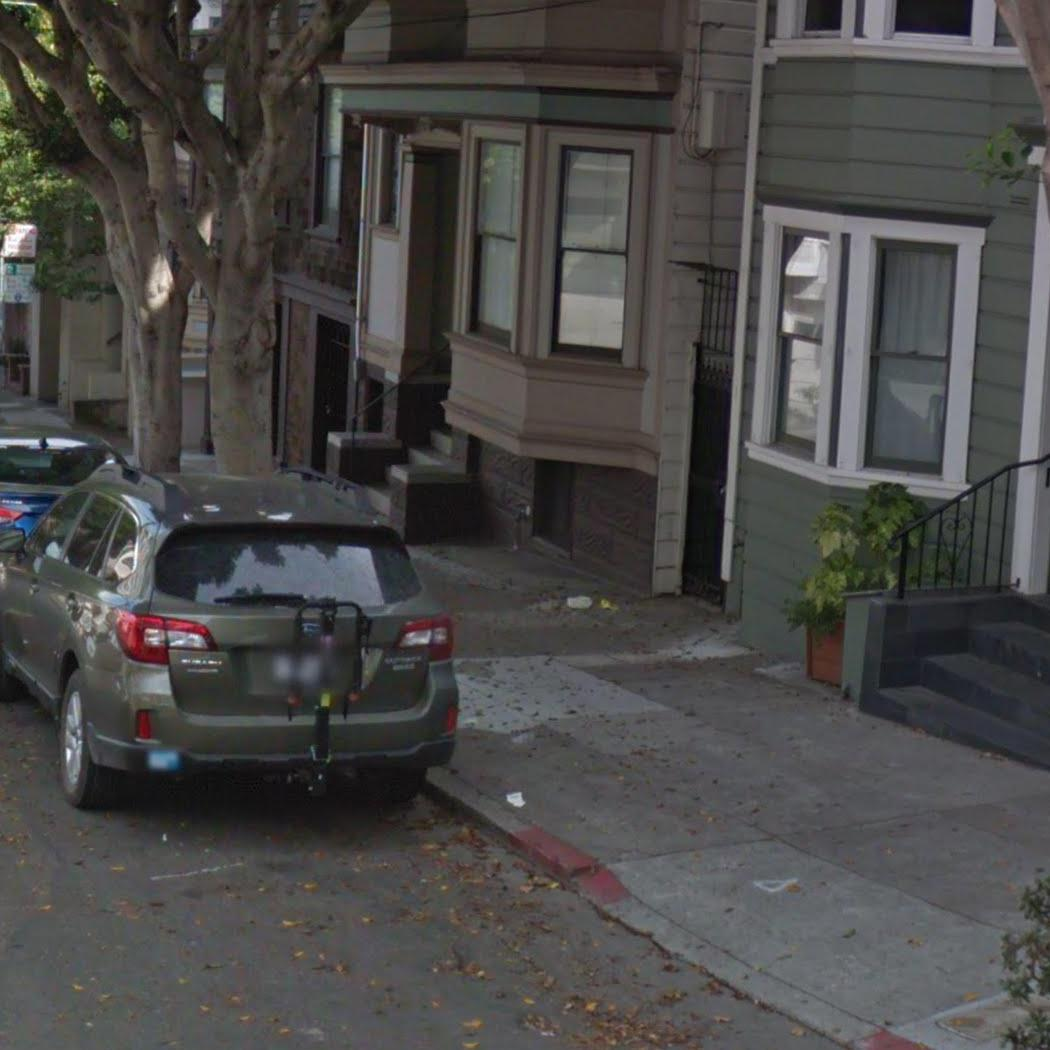2 Hour Parking: (0, 262, 39, 305)
No Parking: (1, 222, 39, 259)
